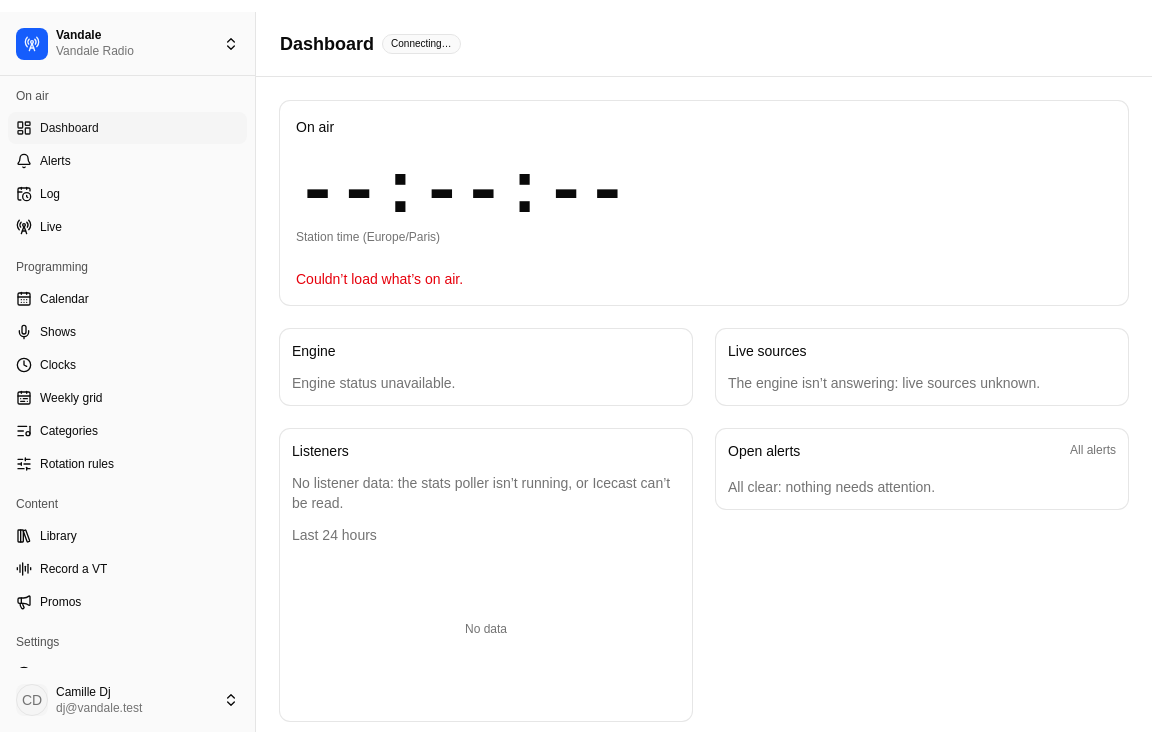
clocks › lists clocks with their length and status, from the nav
Click the link "Clocks". click: (46, 365)
box: [16,357,76,373]
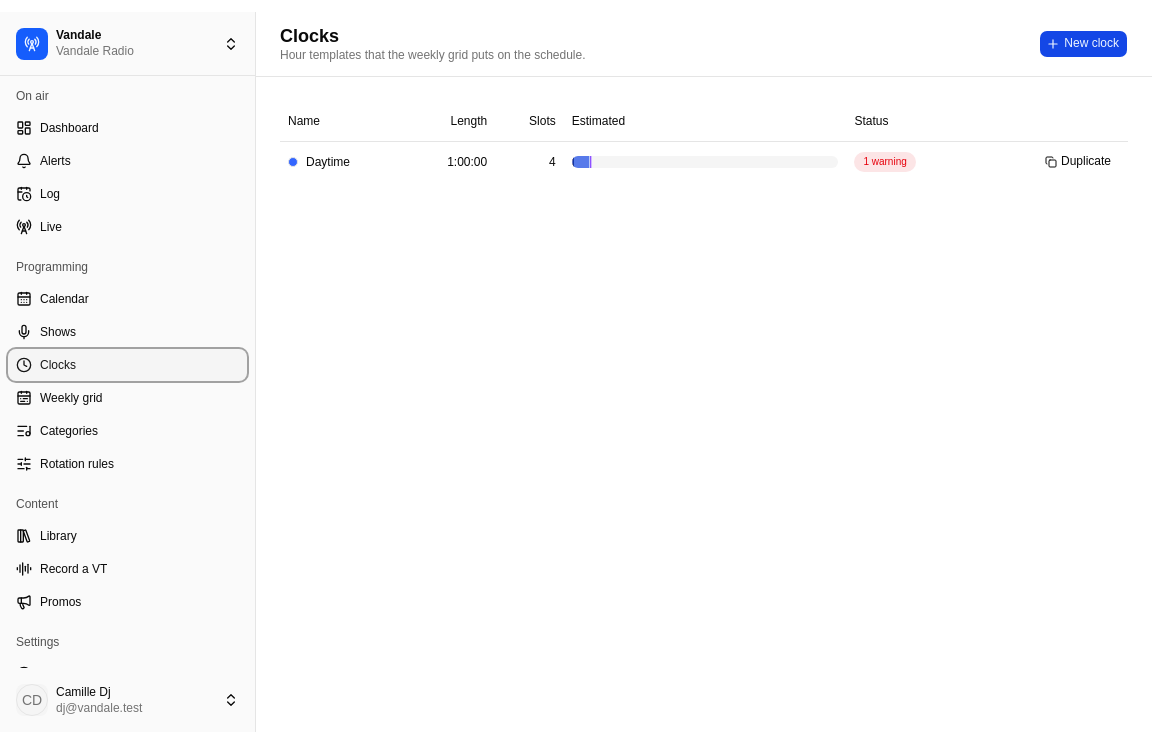
expect the text "1:00:00" is shown: met, box [405,141,495,182]
expect the text "1 warning" is shown: met, box [854,152,916,172]
expect the picture named "Clock timeline" is shown: met, box [572,156,838,168]
